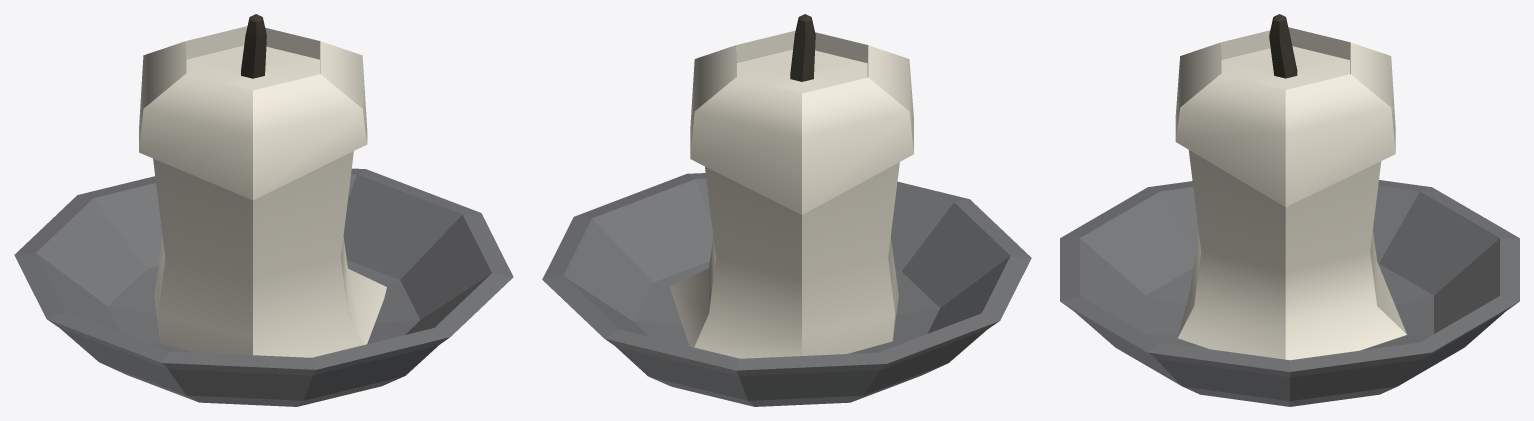
Rendered from candel.fbx.
3 renders of one model, left to right at view 1: azimuth 30°, elevation 25°; view 2: azimuth 150°, elevation 25°; view 3: azimuth 270°, elevation 25°, orthographic. The views are drawn at different scales.
Parts seen in each view (by area): view 1: pCylinder9; view 2: pCylinder9; view 3: pCylinder9.
Part boxes in pixels (x1=…): pCylinder9: x1=14, y1=14, x2=513, y2=406; pCylinder9: x1=542, y1=14, x2=1031, y2=406; pCylinder9: x1=1060, y1=14, x2=1519, y2=406.
Size of the model in its own units: 0.1663 by 0.1225 by 0.1582.
